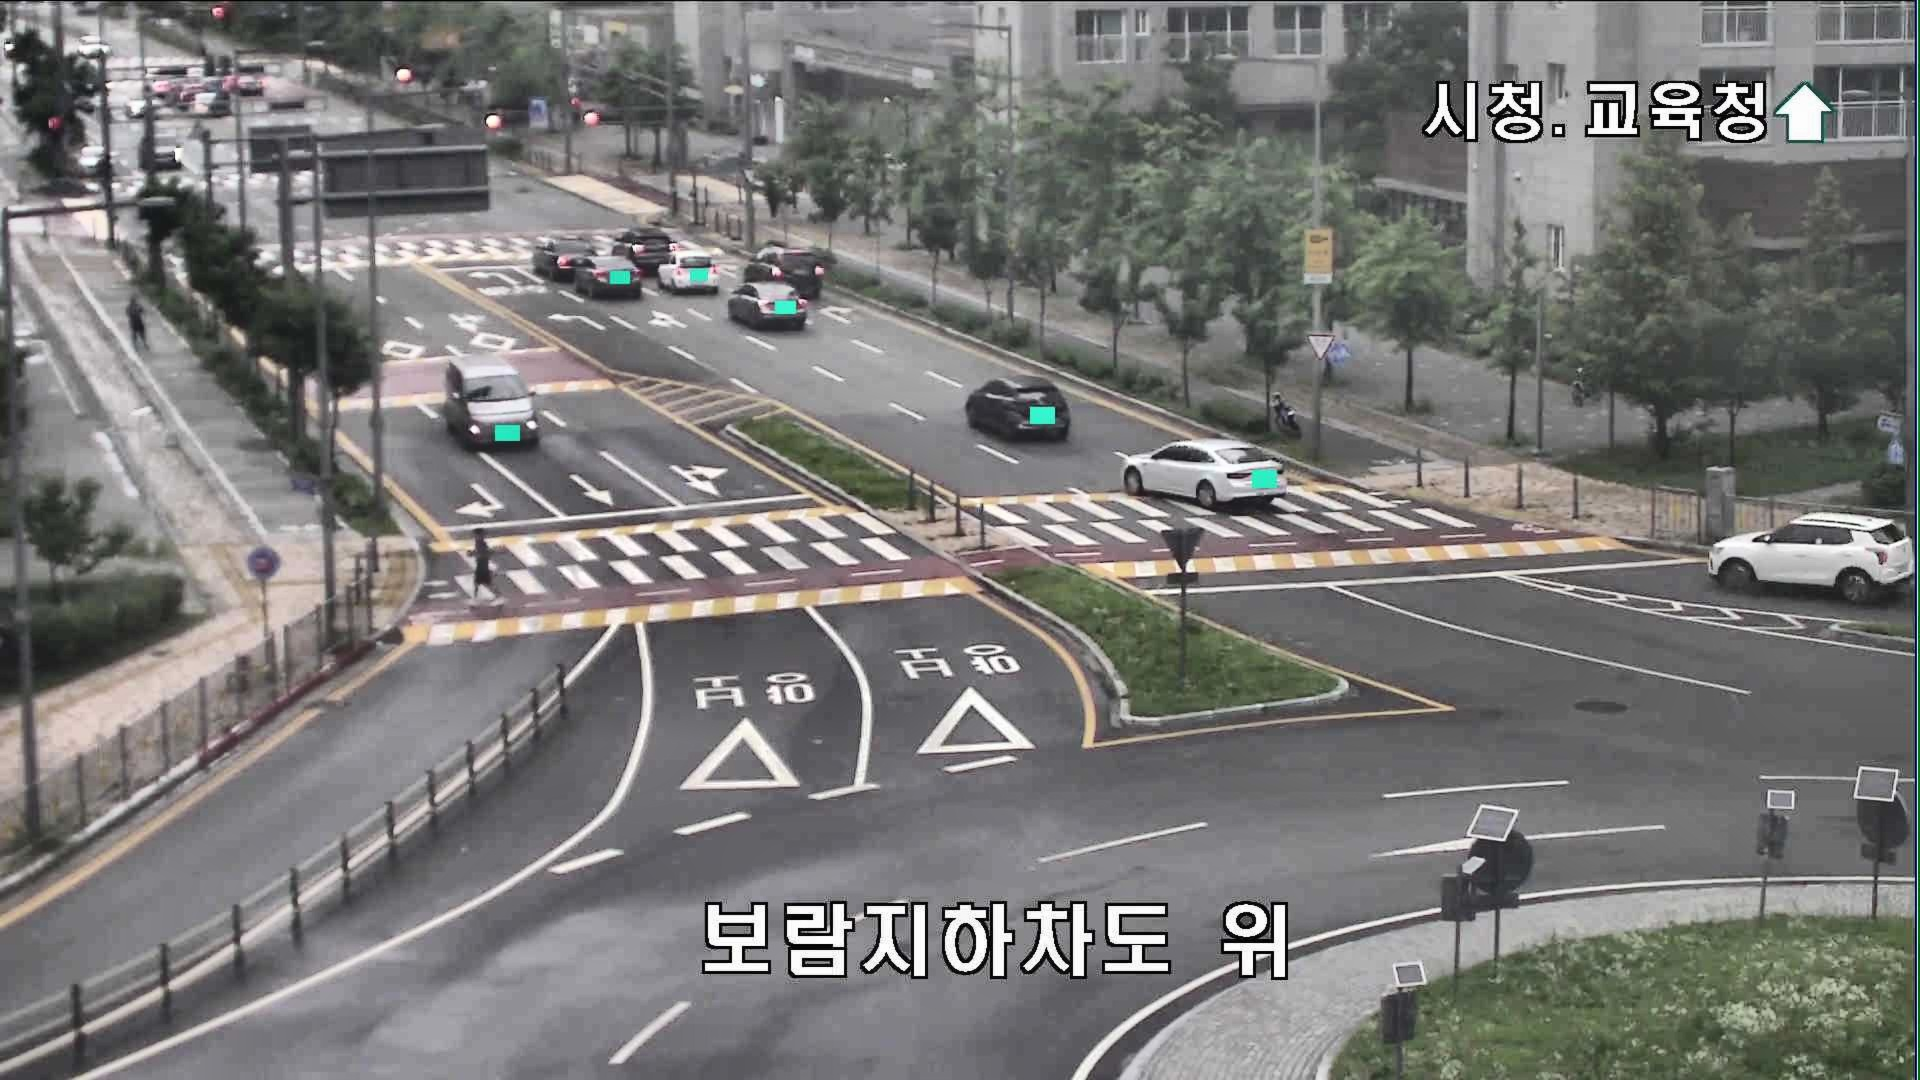sidewalk: (127, 295, 152, 348)
um_crosswalk: (464, 527, 496, 604)
